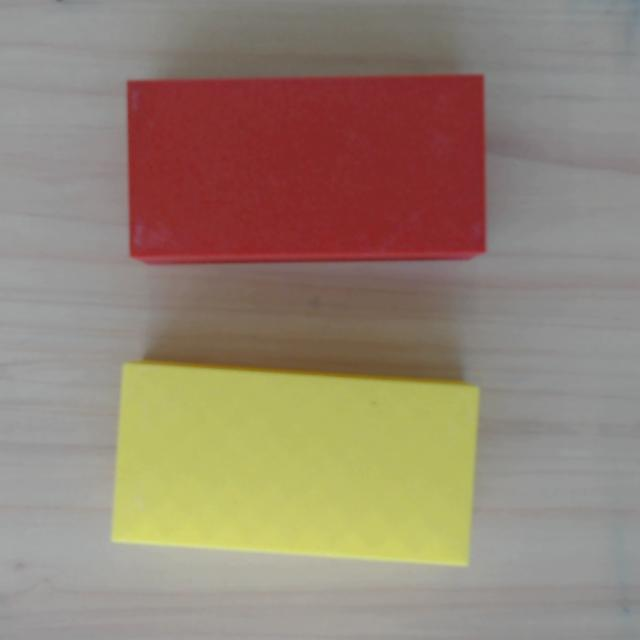Balok-Kuning-1005025: (111, 361, 480, 567)
Balok-Merah-1005025: (127, 74, 487, 264)
